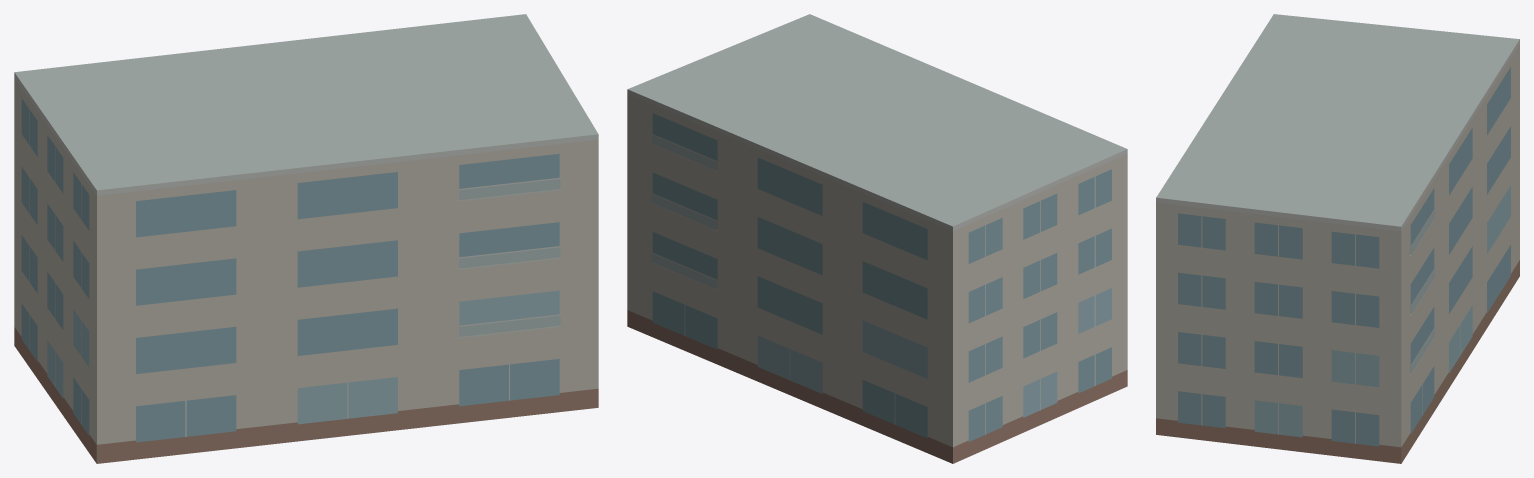
The model's file is survey-upis-32959536.glb.
The picture shows the model from 3 angles, left to right: view 1: azimuth 30°, elevation 25°; view 2: azimuth 150°, elevation 25°; view 3: azimuth 270°, elevation 25°; orthographic projection. The views are drawn at different scales.
Visible parts, largest first — view 1: survey-upis-32959536.tmp; view 2: survey-upis-32959536.tmp; view 3: survey-upis-32959536.tmp.
Part boxes in pixels (<box>): survey-upis-32959536.tmp: <box>14,14,598,463</box>; survey-upis-32959536.tmp: <box>627,14,1127,463</box>; survey-upis-32959536.tmp: <box>1156,14,1519,463</box>.
Size of the model in its own units: 23.77 by 12.35 by 17.18.
